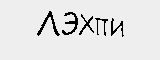И: (108, 17, 127, 39)
Л: (34, 10, 62, 38)
П: (95, 17, 107, 37)
Х: (78, 12, 95, 34)
Э: (62, 9, 78, 37)
